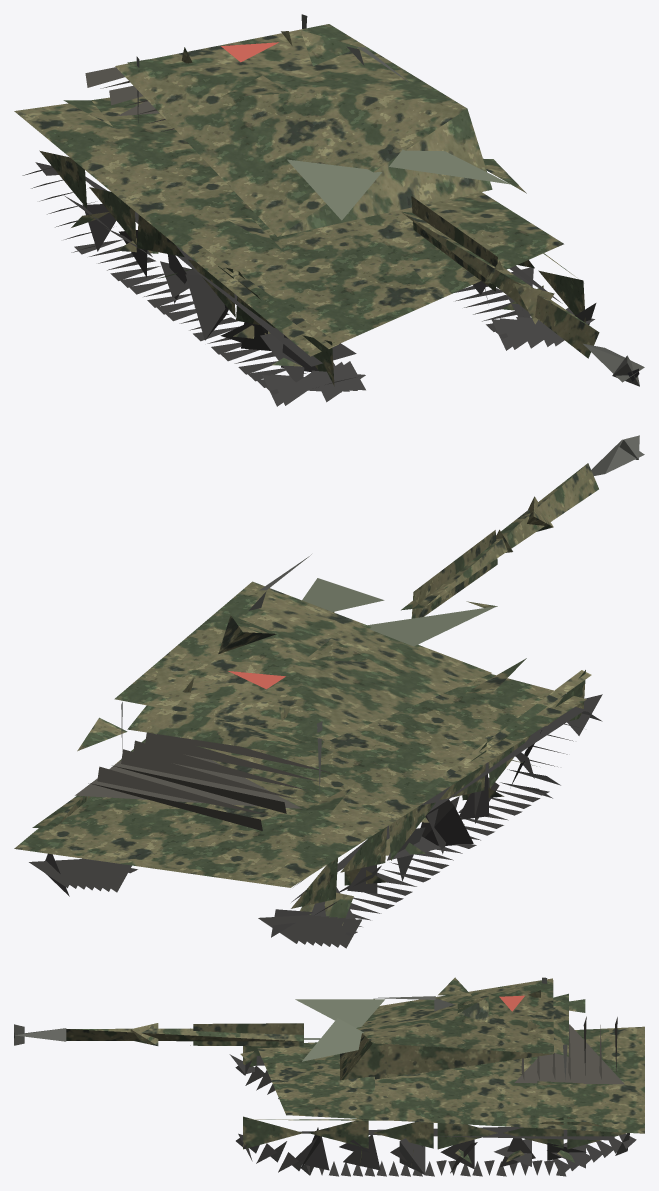
The model's file is mbt_e6_cn_ztz99a_LOD2.glb.
The picture shows the model from 3 angles, top to bottom: view 1: azimuth 30°, elevation 25°; view 2: azimuth 150°, elevation 25°; view 3: azimuth 270°, elevation 25°; orthographic projection. The views are drawn at different scales.
Parts seen in each view (by area): view 1: mbt_e6_cn_ztz99a_LOD2_body, mbt_e6_cn_ztz99a_LOD2_track, mbt_e6_cn_ztz99a_LOD2_era, mbt_e6_cn_ztz99a_LOD2_gun, mbt_e6_cn_ztz99a_LOD2_deck, mbt_e6_cn_ztz99a_LOD2_team; view 2: mbt_e6_cn_ztz99a_LOD2_body, mbt_e6_cn_ztz99a_LOD2_track, mbt_e6_cn_ztz99a_LOD2_deck, mbt_e6_cn_ztz99a_LOD2_era, mbt_e6_cn_ztz99a_LOD2_gun; view 3: mbt_e6_cn_ztz99a_LOD2_body, mbt_e6_cn_ztz99a_LOD2_track, mbt_e6_cn_ztz99a_LOD2_deck, mbt_e6_cn_ztz99a_LOD2_era, mbt_e6_cn_ztz99a_LOD2_gun.
Boxes of the visible parts, x1,y1,x2,y2 form: mbt_e6_cn_ztz99a_LOD2_body: (14, 24, 599, 386); mbt_e6_cn_ztz99a_LOD2_track: (22, 162, 596, 406); mbt_e6_cn_ztz99a_LOD2_era: (287, 149, 509, 220); mbt_e6_cn_ztz99a_LOD2_gun: (136, 14, 644, 386); mbt_e6_cn_ztz99a_LOD2_deck: (85, 67, 174, 131); mbt_e6_cn_ztz99a_LOD2_team: (221, 42, 278, 62); mbt_e6_cn_ztz99a_LOD2_body: (14, 463, 598, 925); mbt_e6_cn_ztz99a_LOD2_track: (29, 694, 602, 948); mbt_e6_cn_ztz99a_LOD2_deck: (75, 732, 330, 830); mbt_e6_cn_ztz99a_LOD2_era: (302, 578, 496, 646); mbt_e6_cn_ztz99a_LOD2_gun: (121, 435, 644, 790); mbt_e6_cn_ztz99a_LOD2_body: (66, 977, 644, 1166); mbt_e6_cn_ztz99a_LOD2_track: (229, 1054, 636, 1176); mbt_e6_cn_ztz99a_LOD2_deck: (514, 1016, 624, 1084); mbt_e6_cn_ztz99a_LOD2_era: (295, 999, 384, 1061); mbt_e6_cn_ztz99a_LOD2_gun: (14, 977, 567, 1079).
Size of the model in its own units: 3.5 by 2.89 by 10.55.
Materials: 7 (1 with a texture image).
